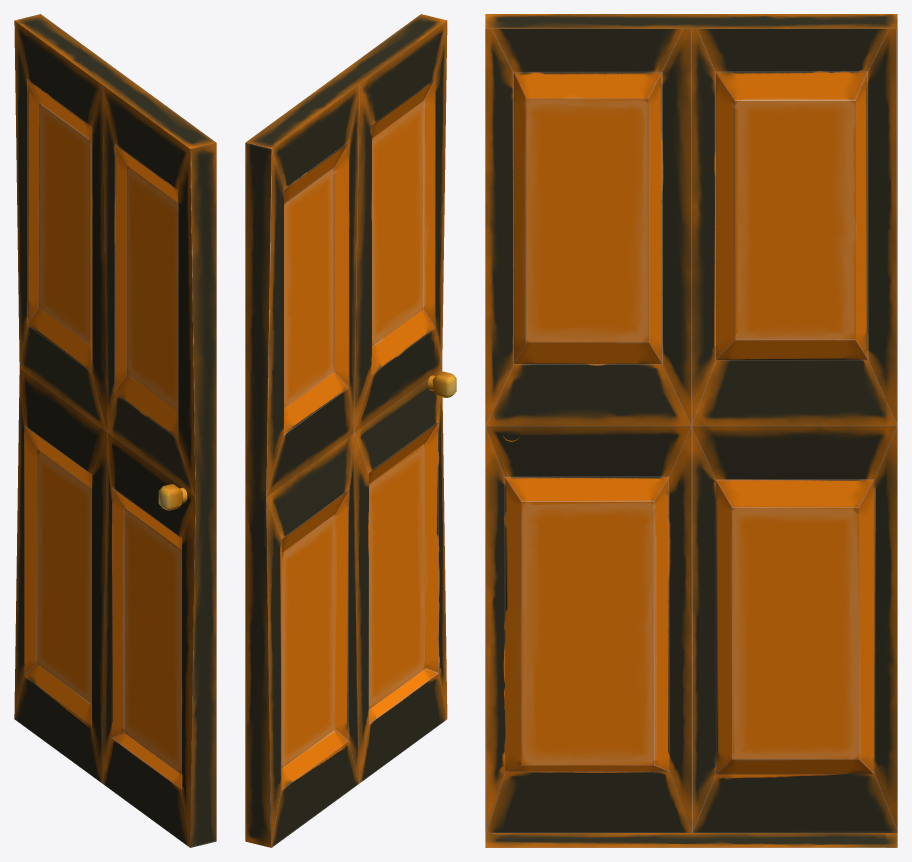
File: DOOR_EXIT.fbx
3 views of the same model, side by side, from view 1: azimuth 30°, elevation 25°; view 2: azimuth 150°, elevation 25°; view 3: azimuth 270°, elevation 25° (orthographic). The views are drawn at different scales.
Parts seen in each view (by area): view 1: door_finished; view 2: door_finished; view 3: door_finished.
Boxes of the visible parts, x1,y1,x2,y2 form: door_finished: [14, 14, 216, 847]; door_finished: [245, 14, 456, 847]; door_finished: [485, 14, 897, 847].
Bounding box in the file's own units: 22.7 × 335 × 153.
